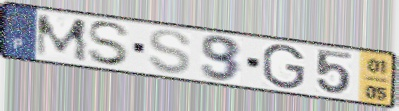5: (313, 47, 356, 97)
9: (199, 34, 245, 84)
G: (260, 43, 307, 90)
M: (33, 13, 90, 64)
S: (146, 28, 193, 76), (86, 20, 133, 68)
